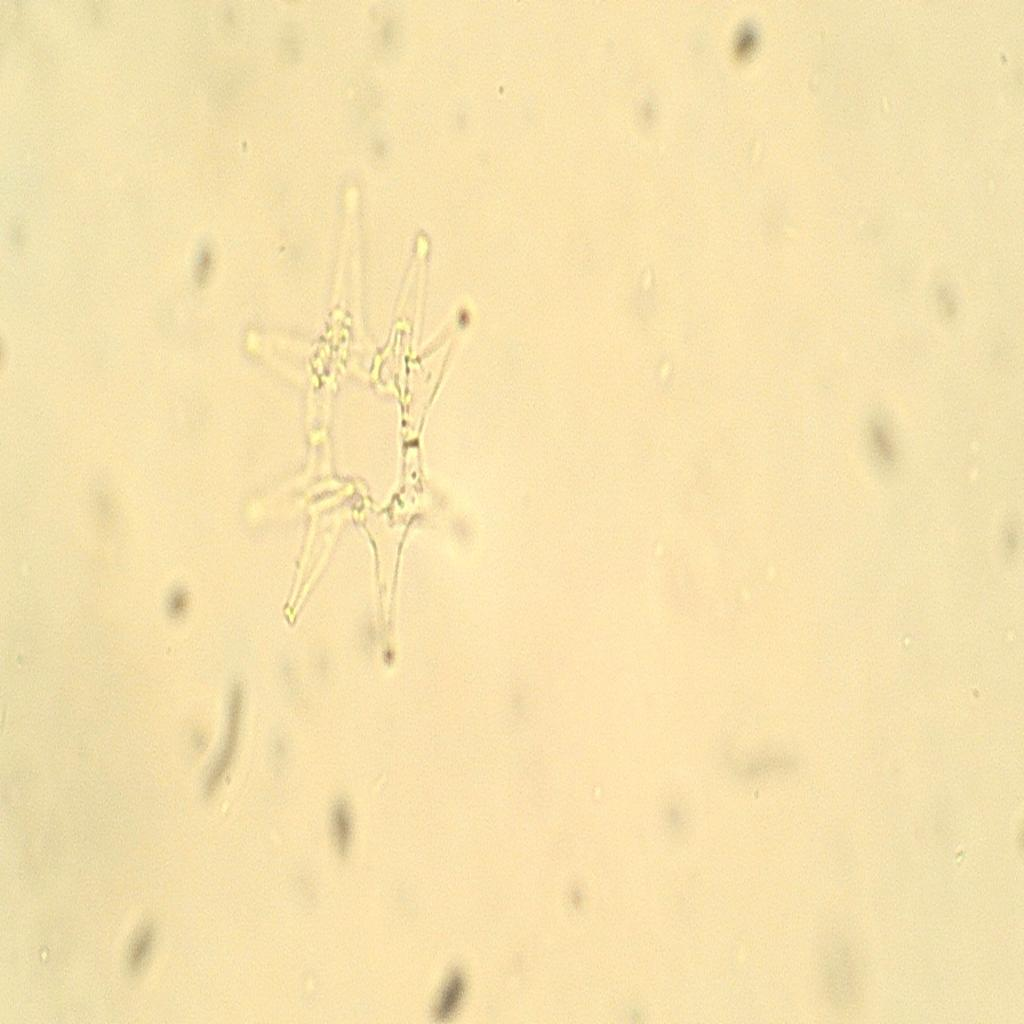Pediastrum_75TH: (225, 164, 512, 710)
